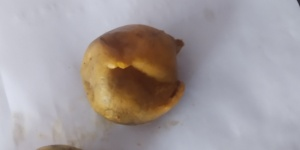BAD: (81, 23, 182, 122)
